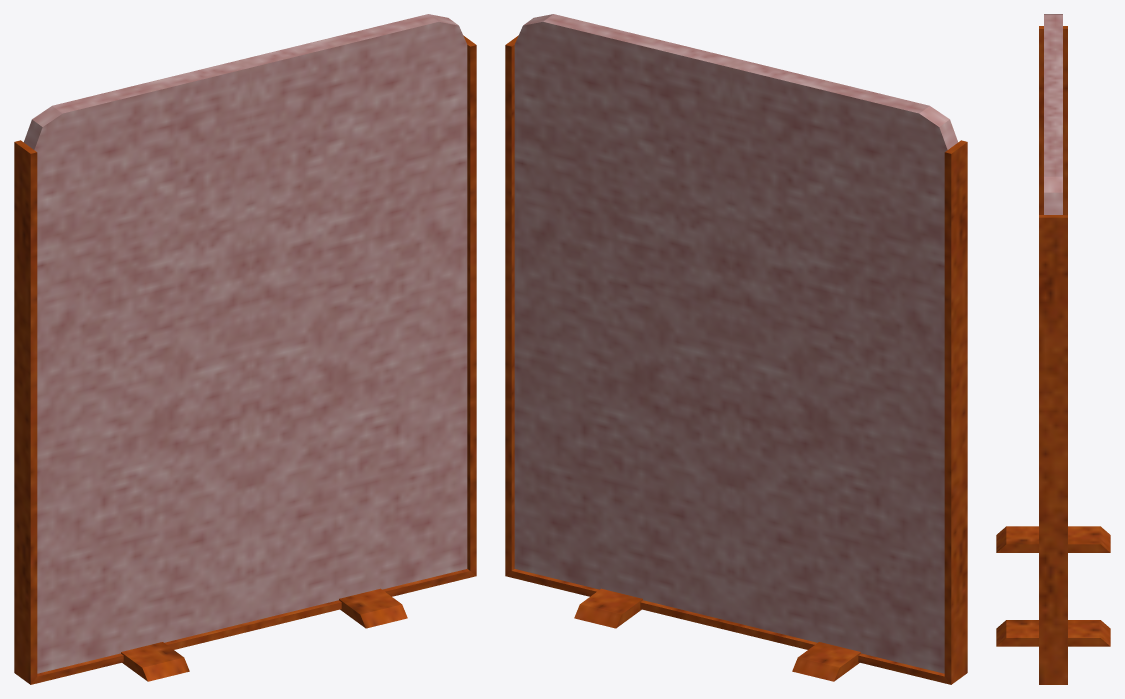
File: divider_veneer_red_half.obj
The picture shows the model from 3 angles, left to right: view 1: azimuth 30°, elevation 25°; view 2: azimuth 150°, elevation 25°; view 3: azimuth 270°, elevation 25°; orthographic projection. The views are drawn at different scales.
Visible parts, largest first — view 1: divider_veneer_red_half; view 2: divider_veneer_red_half; view 3: divider_veneer_red_half.
Part boxes in pixels (x1,y1,x2,y2): divider_veneer_red_half: (14,14,476,684); divider_veneer_red_half: (505,14,967,684); divider_veneer_red_half: (996,14,1110,684).
Size of the model in its own units: 2.07 by 2.5 by 0.523.
